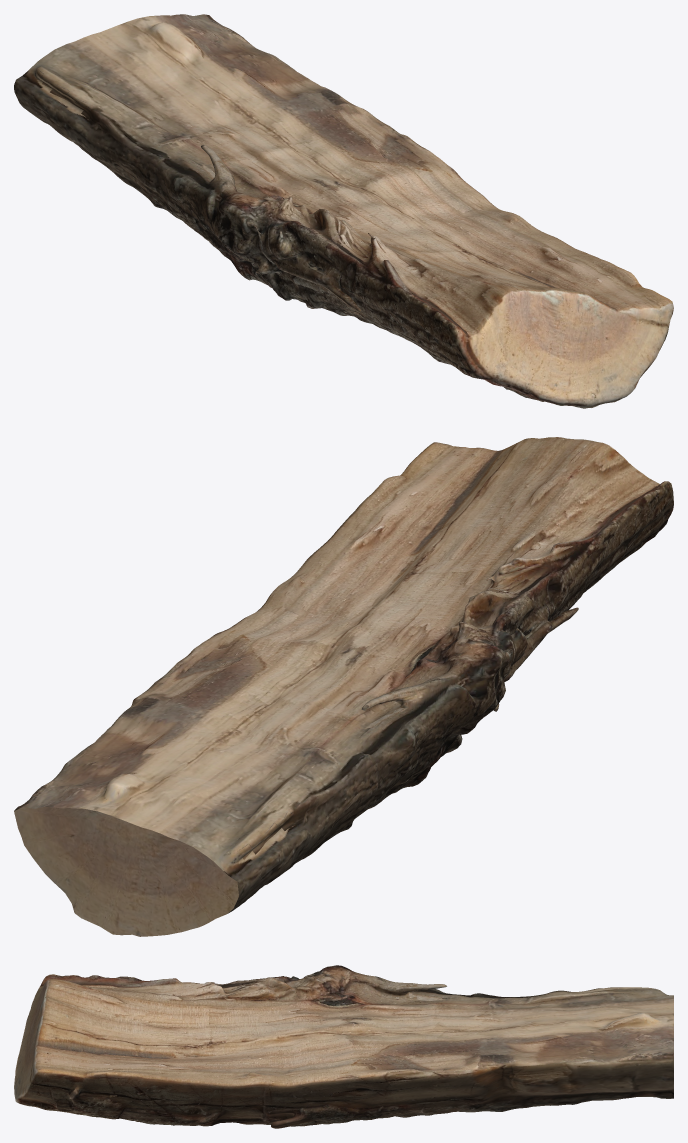
The model's file is log.fbx.
3 renders of one model, top to bottom at view 1: azimuth 30°, elevation 25°; view 2: azimuth 150°, elevation 25°; view 3: azimuth 270°, elevation 25°, orthographic. The views are drawn at different scales.
Visible parts, largest first — view 1: Retopo_3DModel_mesh; view 2: Retopo_3DModel_mesh; view 3: Retopo_3DModel_mesh.
Boxes of the visible parts, <box> form: Retopo_3DModel_mesh: <box>14,14,673,408</box>; Retopo_3DModel_mesh: <box>14,437,673,936</box>; Retopo_3DModel_mesh: <box>14,965,673,1128</box>.
Bounding box in the file's own units: 20.83 × 11.98 × 60.52.
